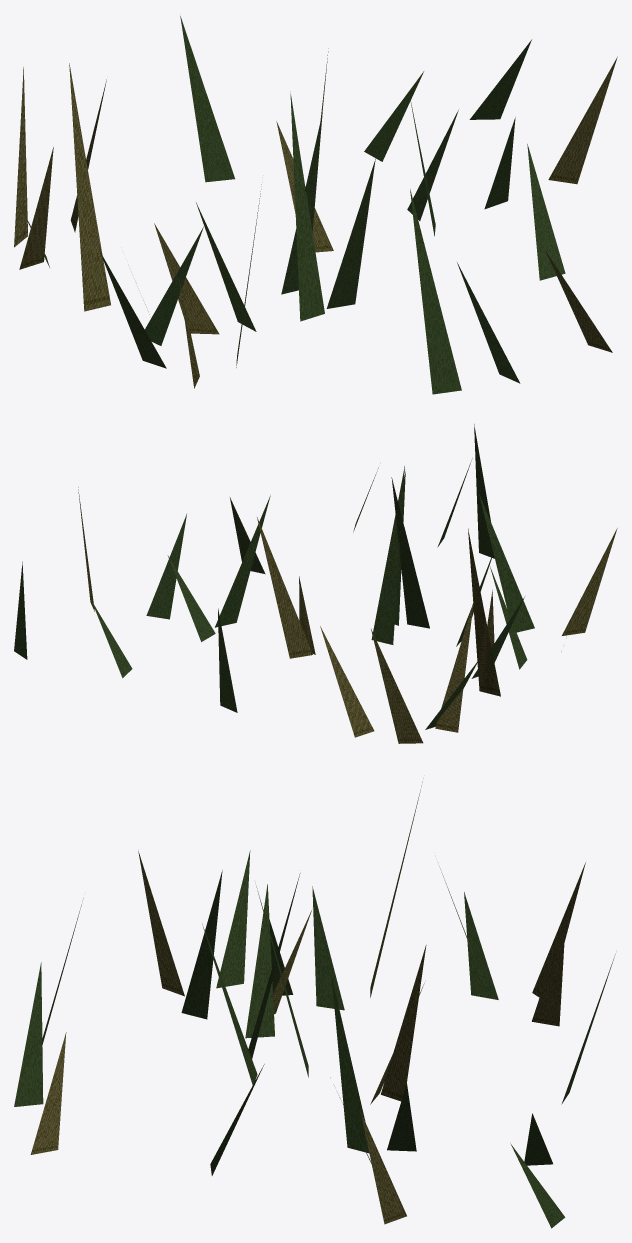
File: level_woodland_grass.glb
The picture shows the model from 3 angles, top to bottom: view 1: azimuth 30°, elevation 25°; view 2: azimuth 150°, elevation 25°; view 3: azimuth 270°, elevation 25°; orthographic projection. The views are drawn at different scales.
Visible parts, largest first — view 1: level_woodland_grass; view 2: level_woodland_grass; view 3: level_woodland_grass.
Boxes of the visible parts, x1=… form: level_woodland_grass: x1=14, y1=16, x2=617, y2=394; level_woodland_grass: x1=14, y1=424, x2=617, y2=743; level_woodland_grass: x1=14, y1=781, x2=615, y2=1228.
Size of the model in its own units: 0.9459 by 0.3561 by 0.8836.
2 materials, 2 textured.
